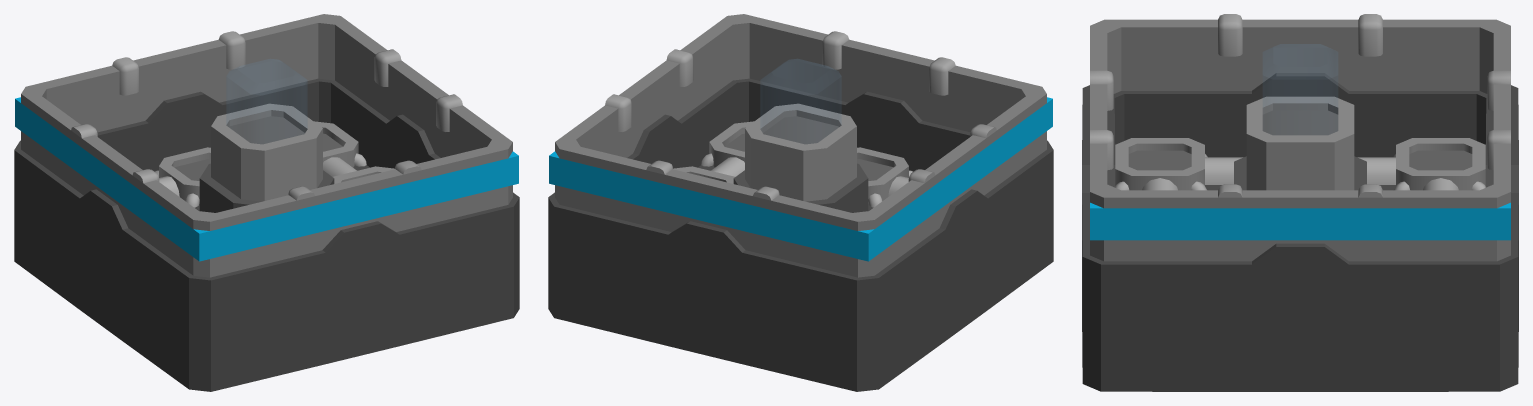
Rendered from Mining_Field_Form.fbx.
3 renders of one model, left to right at view 1: azimuth 30°, elevation 25°; view 2: azimuth 150°, elevation 25°; view 3: azimuth 270°, elevation 25°, orthographic. The views are drawn at different scales.
Visible parts, largest first — view 1: Mining_Field_Form; view 2: Mining_Field_Form; view 3: Mining_Field_Form.
Boxes of the visible parts, <box> form: Mining_Field_Form: <box>14,14,519,391</box>; Mining_Field_Form: <box>548,14,1053,391</box>; Mining_Field_Form: <box>1082,14,1518,391</box>.
Size of the model in its own units: 622 by 384 by 622.
